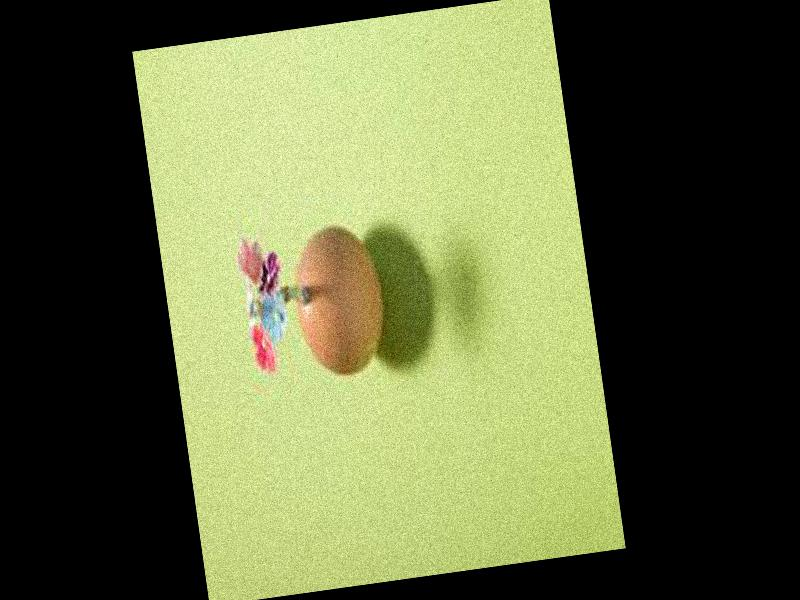Eggs: (287, 221, 392, 379)
